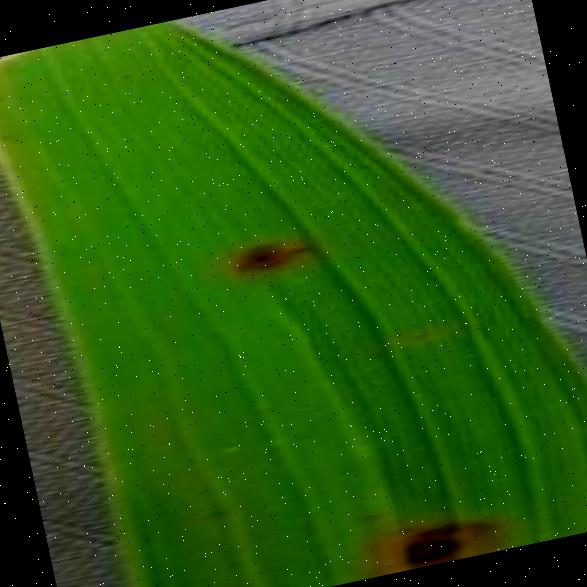Brown_Spot: (212, 214, 328, 288), (383, 522, 468, 571), (421, 500, 498, 548), (194, 494, 239, 528), (395, 321, 434, 351), (282, 421, 321, 451), (107, 59, 140, 86), (351, 504, 388, 526), (383, 518, 419, 540), (0, 124, 17, 147)
